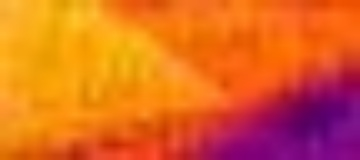Shadow: (207, 74, 360, 160)
